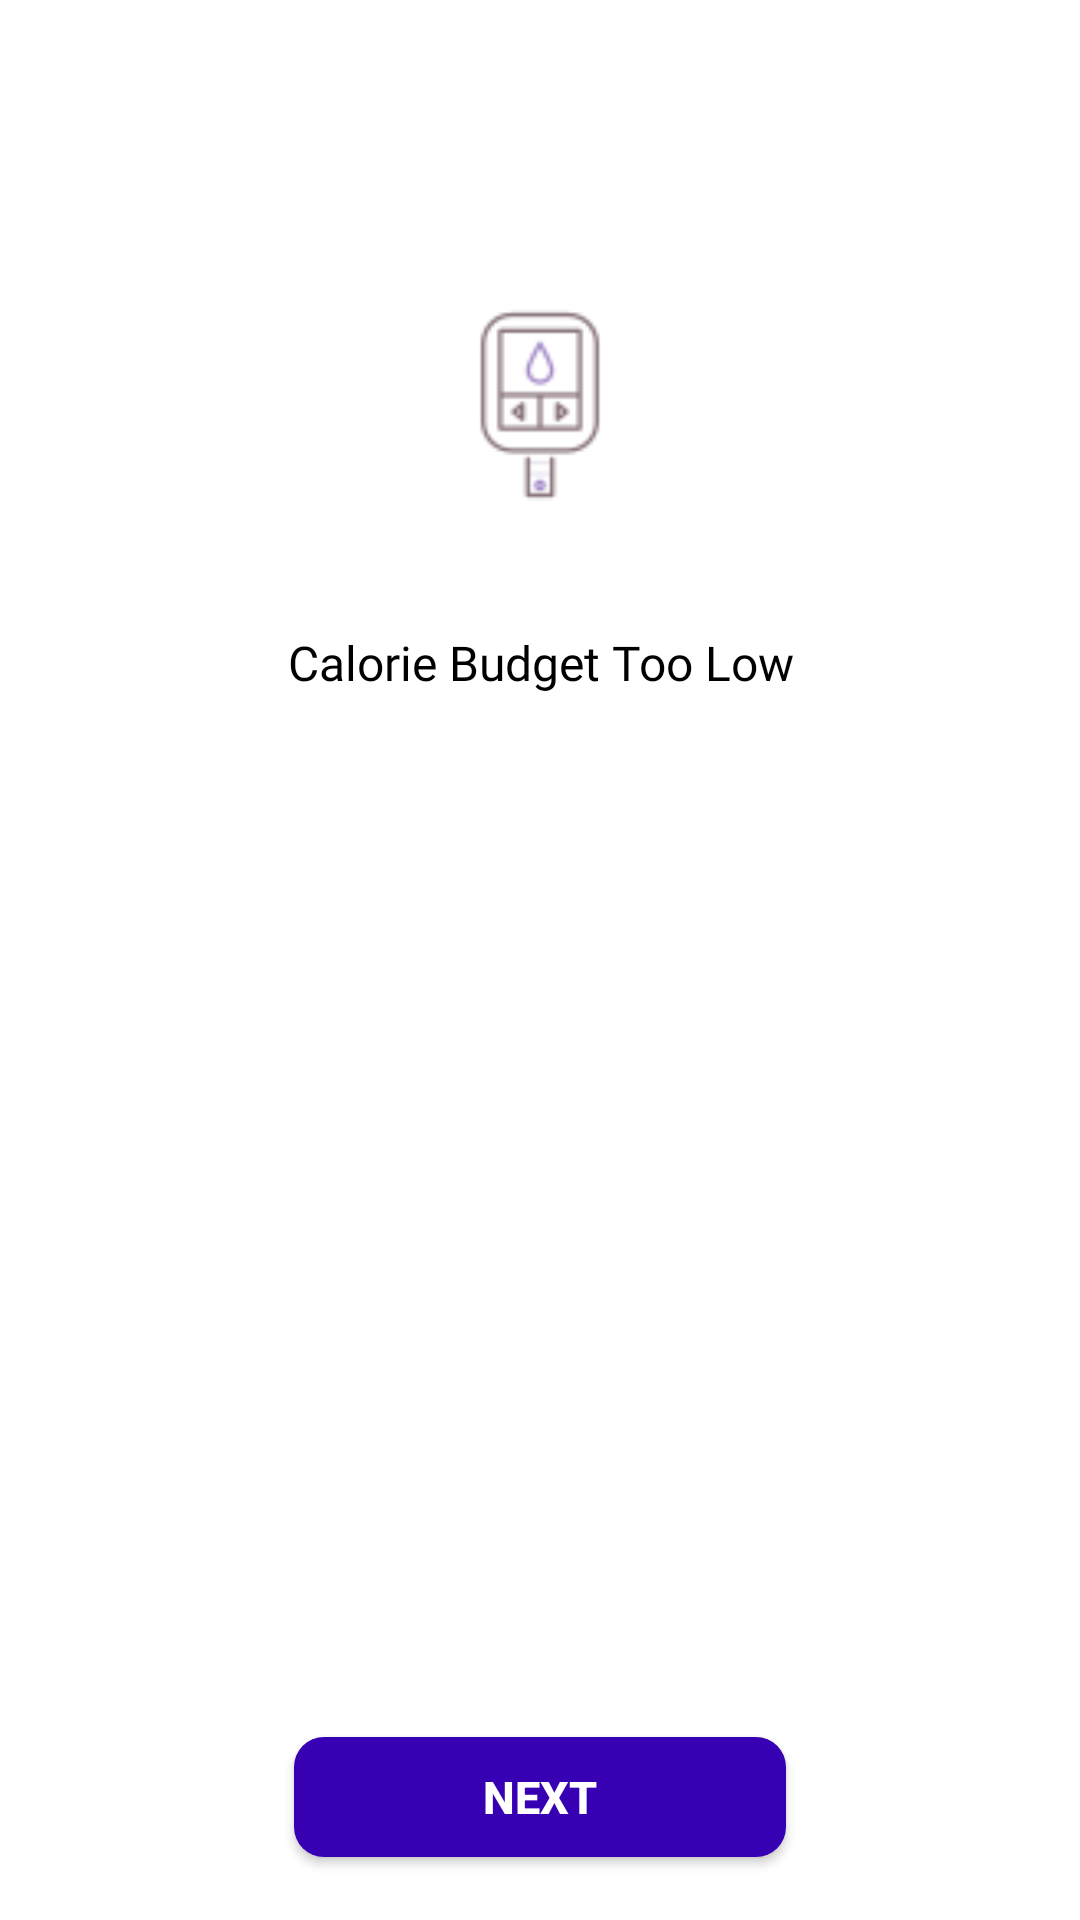

Icon bounding boxes for this 1080x1920 phone screenshot, format (x1, y1, x2, y2):
disease: (480, 312, 600, 498)
